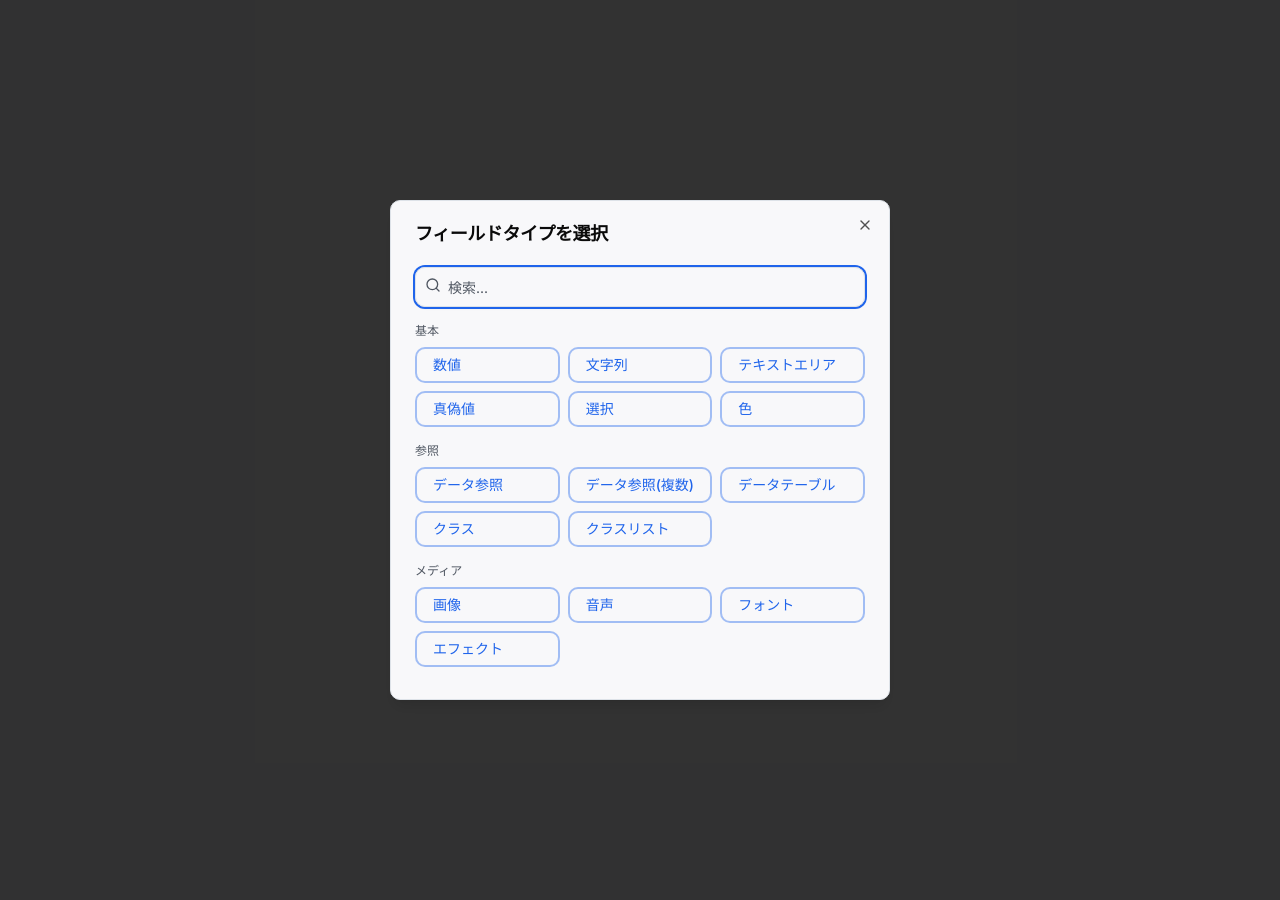
Scenario: FieldTypeSelector › 検索でフィルタリングできる
This screenshot has width=1280, height=900.
Type "数値" into the field with placeholder "検索..." at (640, 287), box [415,267,865,307]
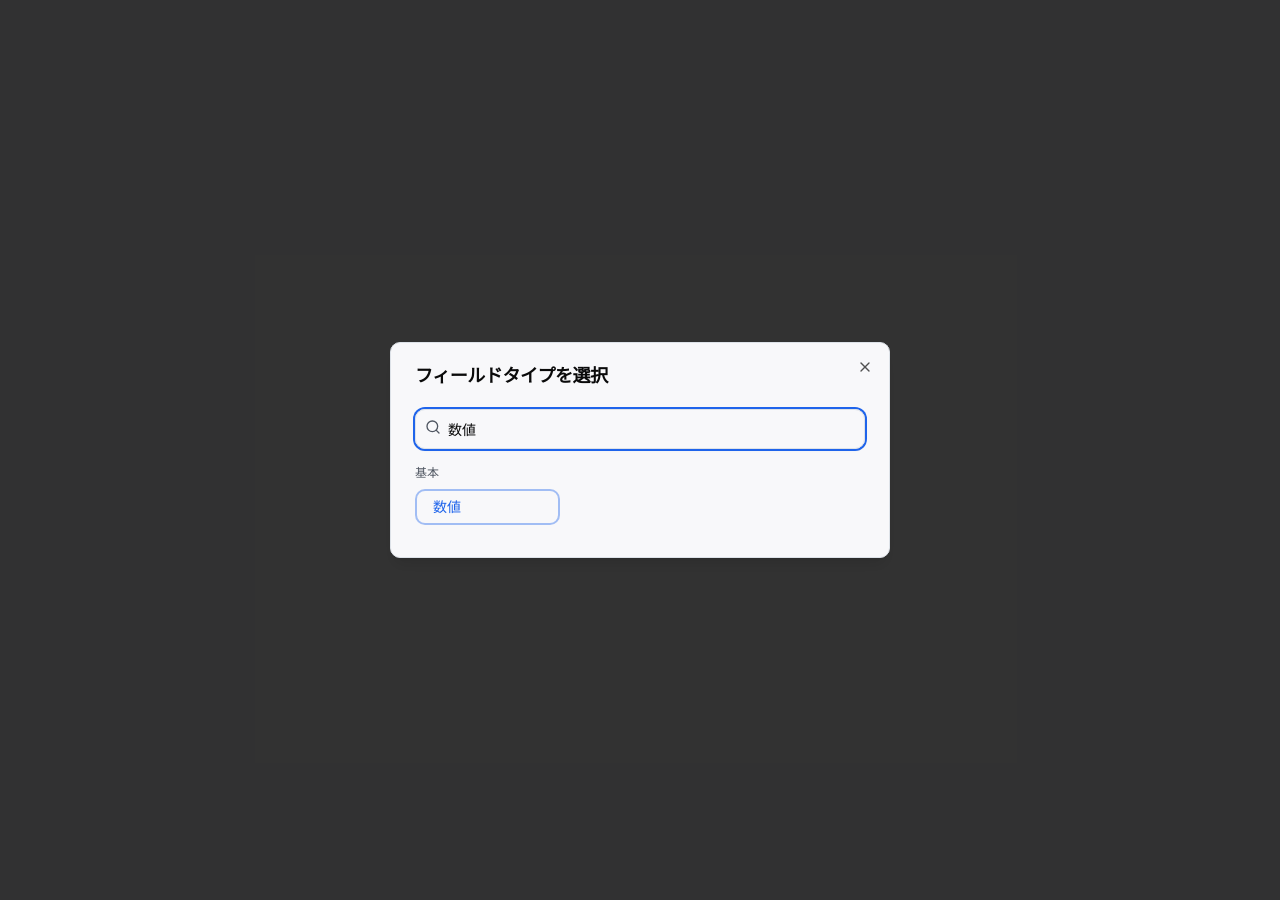
Expected: the button "数値" is shown, [415,489,560,525]
Expected: the button "文字列" is gone
